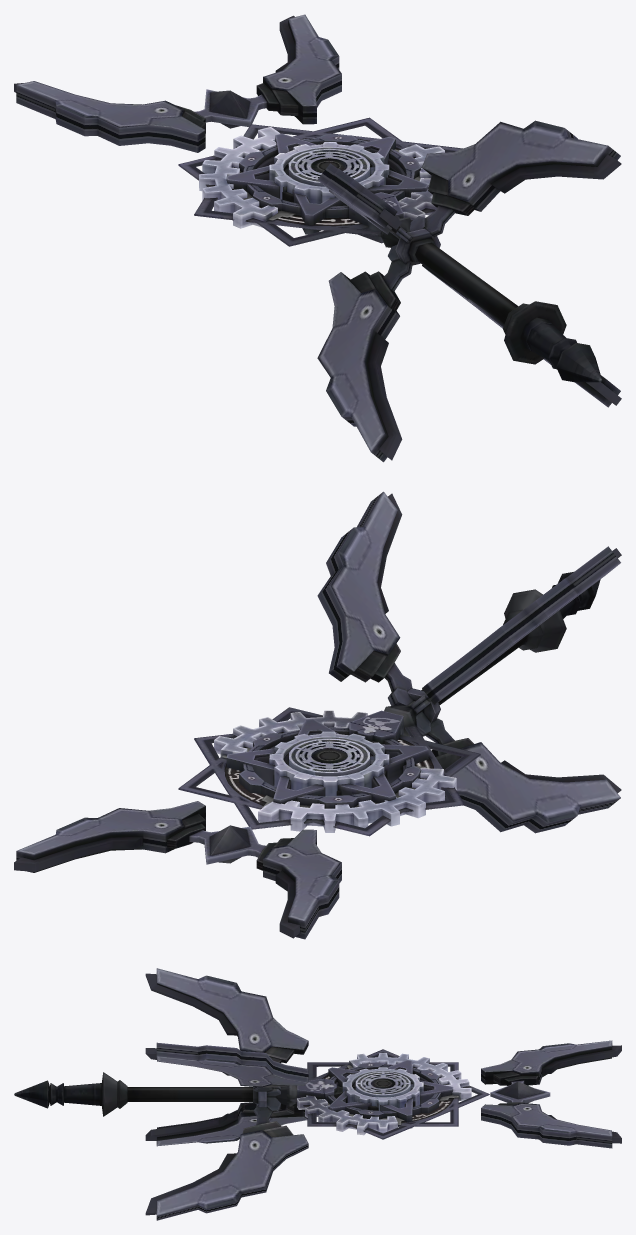
The model's file is wand_s_ooparts_wand_s_ooparts_wand_s_mumei_s.glb.
3 views of the same model, one above another, from view 1: azimuth 30°, elevation 25°; view 2: azimuth 150°, elevation 25°; view 3: azimuth 270°, elevation 25° (orthographic). The views are drawn at different scales.
Bounding box in the file's own units: 0.5288 × 0.4585 × 1.42.
1 material, 1 textured.
